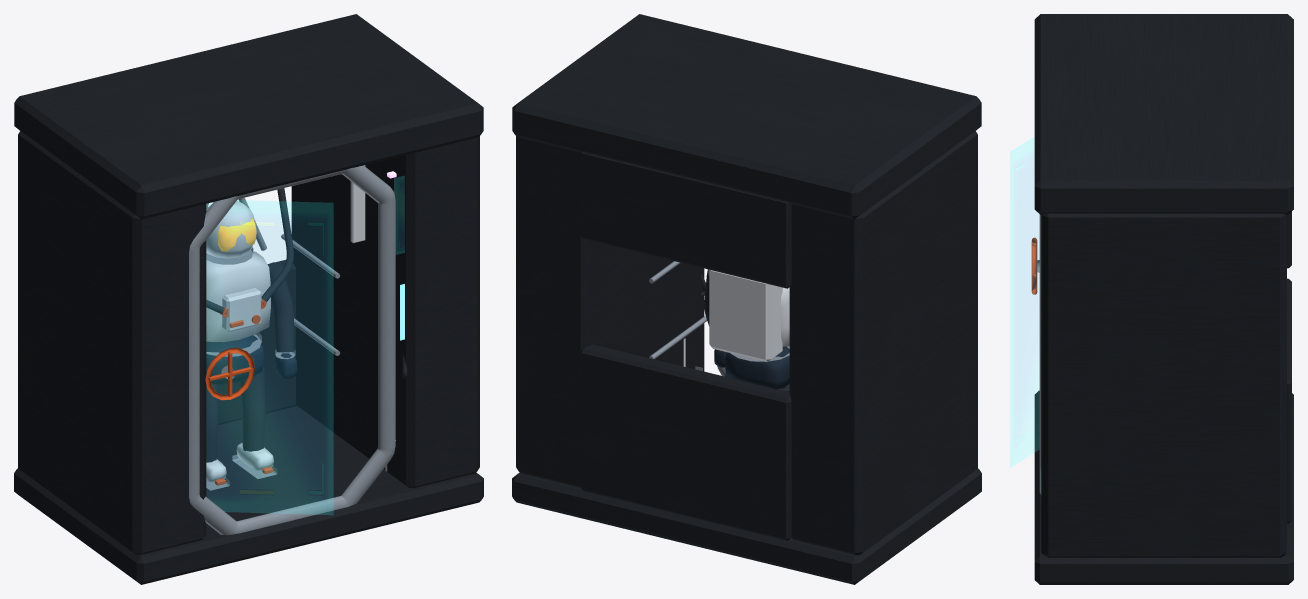
Rendered from eva_chamber_r1_05.glb.
The picture shows the model from 3 angles, left to right: view 1: azimuth 30°, elevation 25°; view 2: azimuth 150°, elevation 25°; view 3: azimuth 270°, elevation 25°; orthographic projection.
Parts seen in each view (by area): view 1: EVA05_SubmarinePlugGunmetalHull, EVA05_OutwardSwingingPlugTranslucentGlass, EVA05_MachinedPlugRingAndRadialDogs, EVA05_WhiteSuitAndCryoO2Bank, EVA05_CharcoalSleevesAndHoses, EVA05_NavySuitJoints, EVA05_SignalOrangeSpiderHandwheel, EVA05_GoldIridiumVisors; view 2: EVA05_SubmarinePlugGunmetalHull, EVA05_WhiteSuitAndCryoO2Bank, EVA05_NavySuitJoints, EVA05_MachinedPlugRingAndRadialDogs; view 3: EVA05_SubmarinePlugGunmetalHull, EVA05_OutwardSwingingPlugTranslucentGlass, EVA05_MachinedPlugRingAndRadialDogs, EVA05_SignalOrangeSpiderHandwheel.
Part boxes in pixels (x1,y1,x2,y2): EVA05_SubmarinePlugGunmetalHull: [14, 14, 483, 584]; EVA05_OutwardSwingingPlugTranslucentGlass: [207, 176, 404, 514]; EVA05_MachinedPlugRingAndRadialDogs: [189, 165, 395, 535]; EVA05_WhiteSuitAndCryoO2Bank: [206, 165, 387, 482]; EVA05_CharcoalSleevesAndHoses: [206, 188, 407, 462]; EVA05_NavySuitJoints: [206, 335, 297, 384]; EVA05_SignalOrangeSpiderHandwheel: [205, 299, 273, 485]; EVA05_GoldIridiumVisors: [218, 218, 256, 251]; EVA05_SubmarinePlugGunmetalHull: [512, 14, 981, 584]; EVA05_WhiteSuitAndCryoO2Bank: [683, 269, 789, 366]; EVA05_NavySuitJoints: [714, 346, 789, 389]; EVA05_MachinedPlugRingAndRadialDogs: [649, 261, 789, 376]; EVA05_SubmarinePlugGunmetalHull: [1034, 14, 1293, 584]; EVA05_OutwardSwingingPlugTranslucentGlass: [1010, 137, 1038, 467]; EVA05_MachinedPlugRingAndRadialDogs: [1037, 214, 1041, 494]; EVA05_SignalOrangeSpiderHandwheel: [1031, 237, 1037, 294].
Bounding box in the file's own units: 2.35 × 2.58 × 1.64.
Materials: 12 (12 with a texture image).
